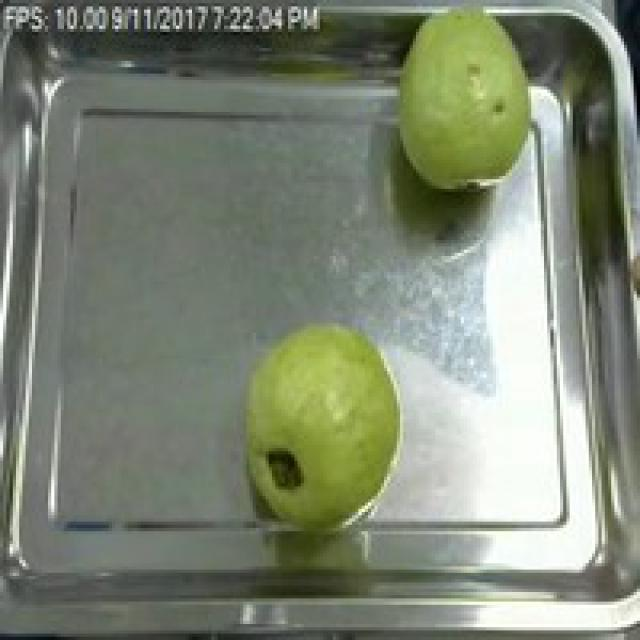Fruit: (230, 308, 416, 534), (384, 3, 550, 205)
